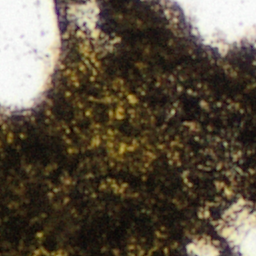cement_matrix: (0, 0, 255, 255)
gravel_crushed_stones: (0, 0, 57, 107), (158, 0, 255, 53), (219, 200, 255, 255), (67, 0, 99, 39), (188, 239, 218, 255)
